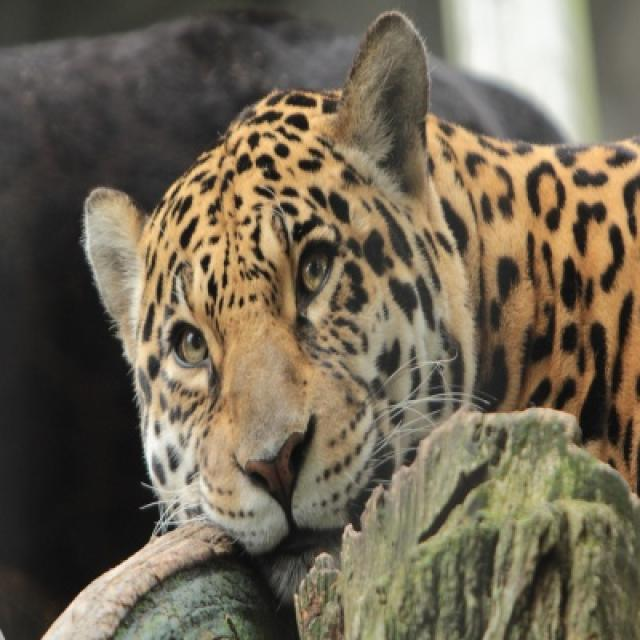Jaguar: (82, 13, 638, 598)
